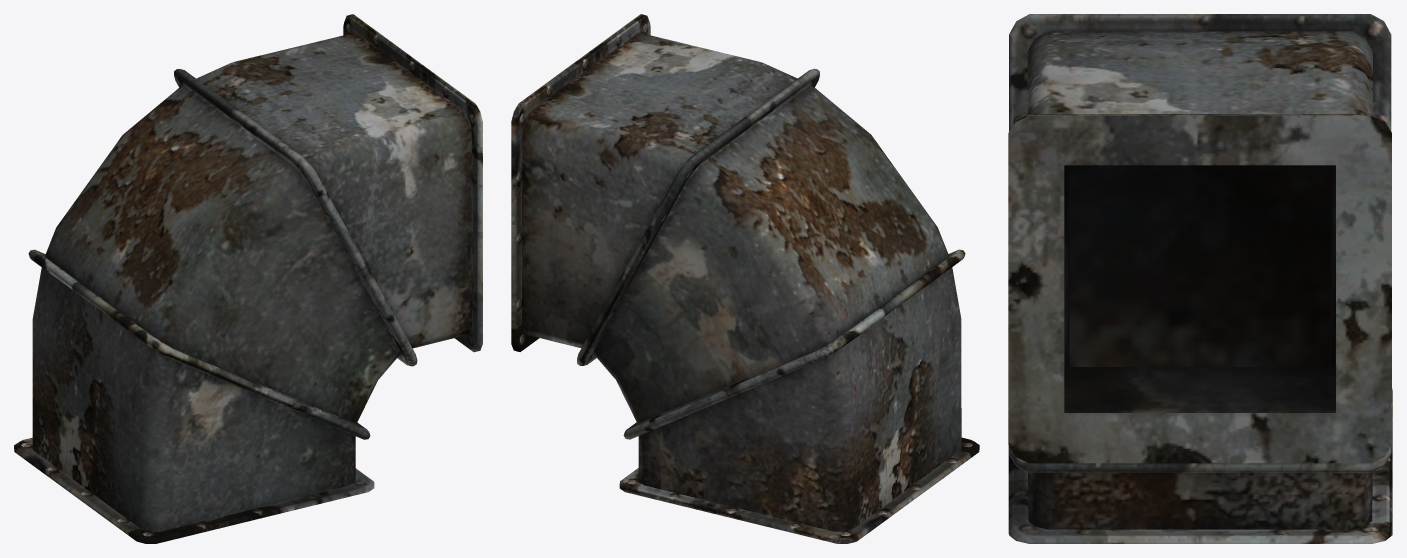
File: Squareduct Corner.obj
3 renders of one model, left to right at view 1: azimuth 30°, elevation 25°; view 2: azimuth 150°, elevation 25°; view 3: azimuth 270°, elevation 25°, orthographic. The views are drawn at different scales.
Visible parts, largest first — view 1: ABY_Squareduct_corner; view 2: ABY_Squareduct_corner; view 3: ABY_Squareduct_corner.
Part boxes in pixels (x1,y1,x2,y2): ABY_Squareduct_corner: (14,14,482,543); ABY_Squareduct_corner: (511,14,979,543); ABY_Squareduct_corner: (1008,14,1392,543).
Size of the model in its own units: 203 by 203 by 142.
1 material, 1 textured.
